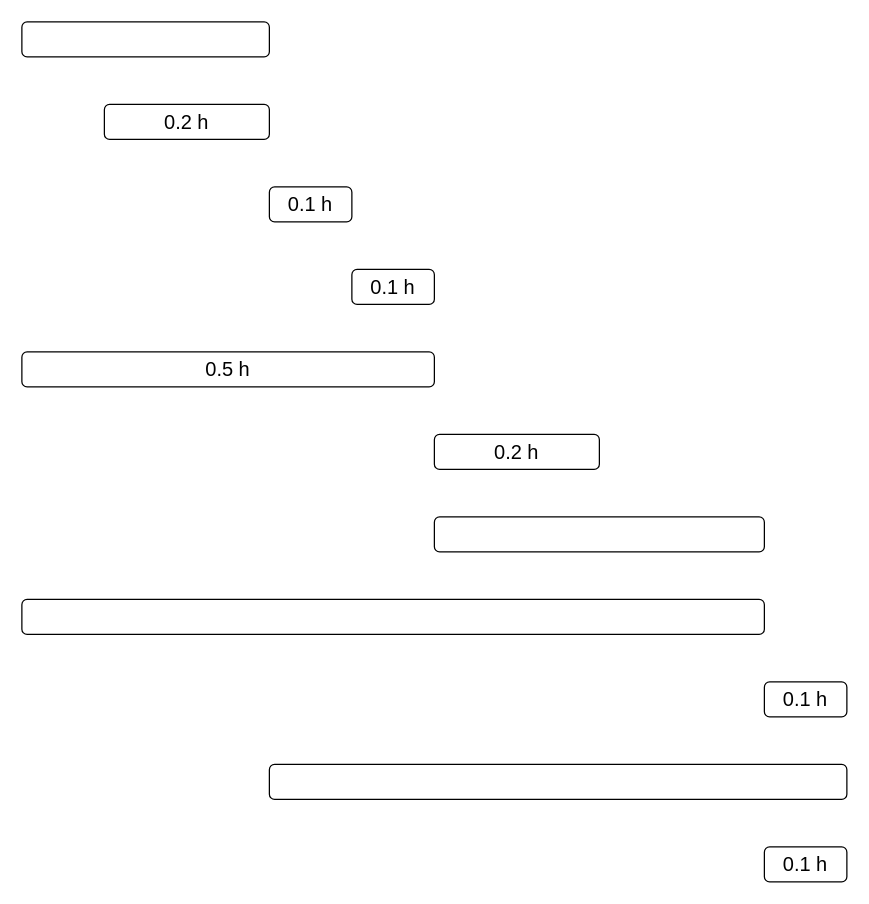
This 869x904 diagram has some shape labels left out. The centre of each missing label's shape, as x and y in pixels:
"0.3 h" belongs at point 145,39.
"0.4 h" belongs at point 598,534.
"0.7 h" belongs at point 557,781.
"0.9 h" belongs at point 392,616.
